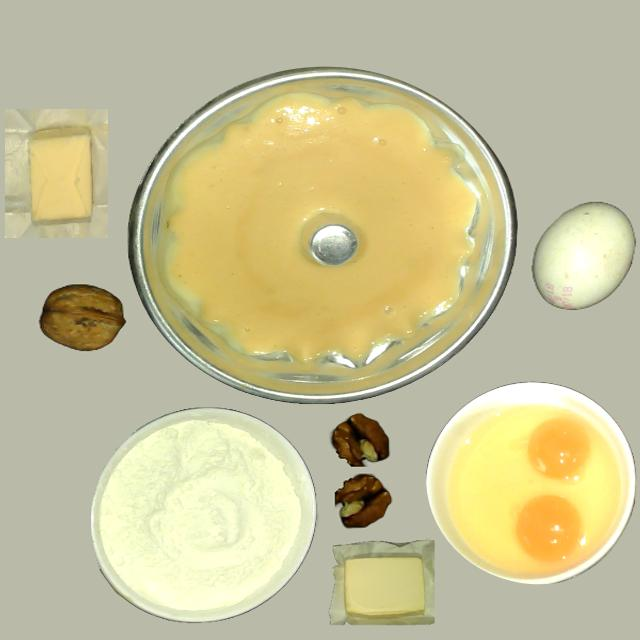Egg: (516, 494, 582, 562), (526, 418, 590, 479)
Flour: (90, 405, 312, 621)
Walnut: (39, 284, 124, 351)
